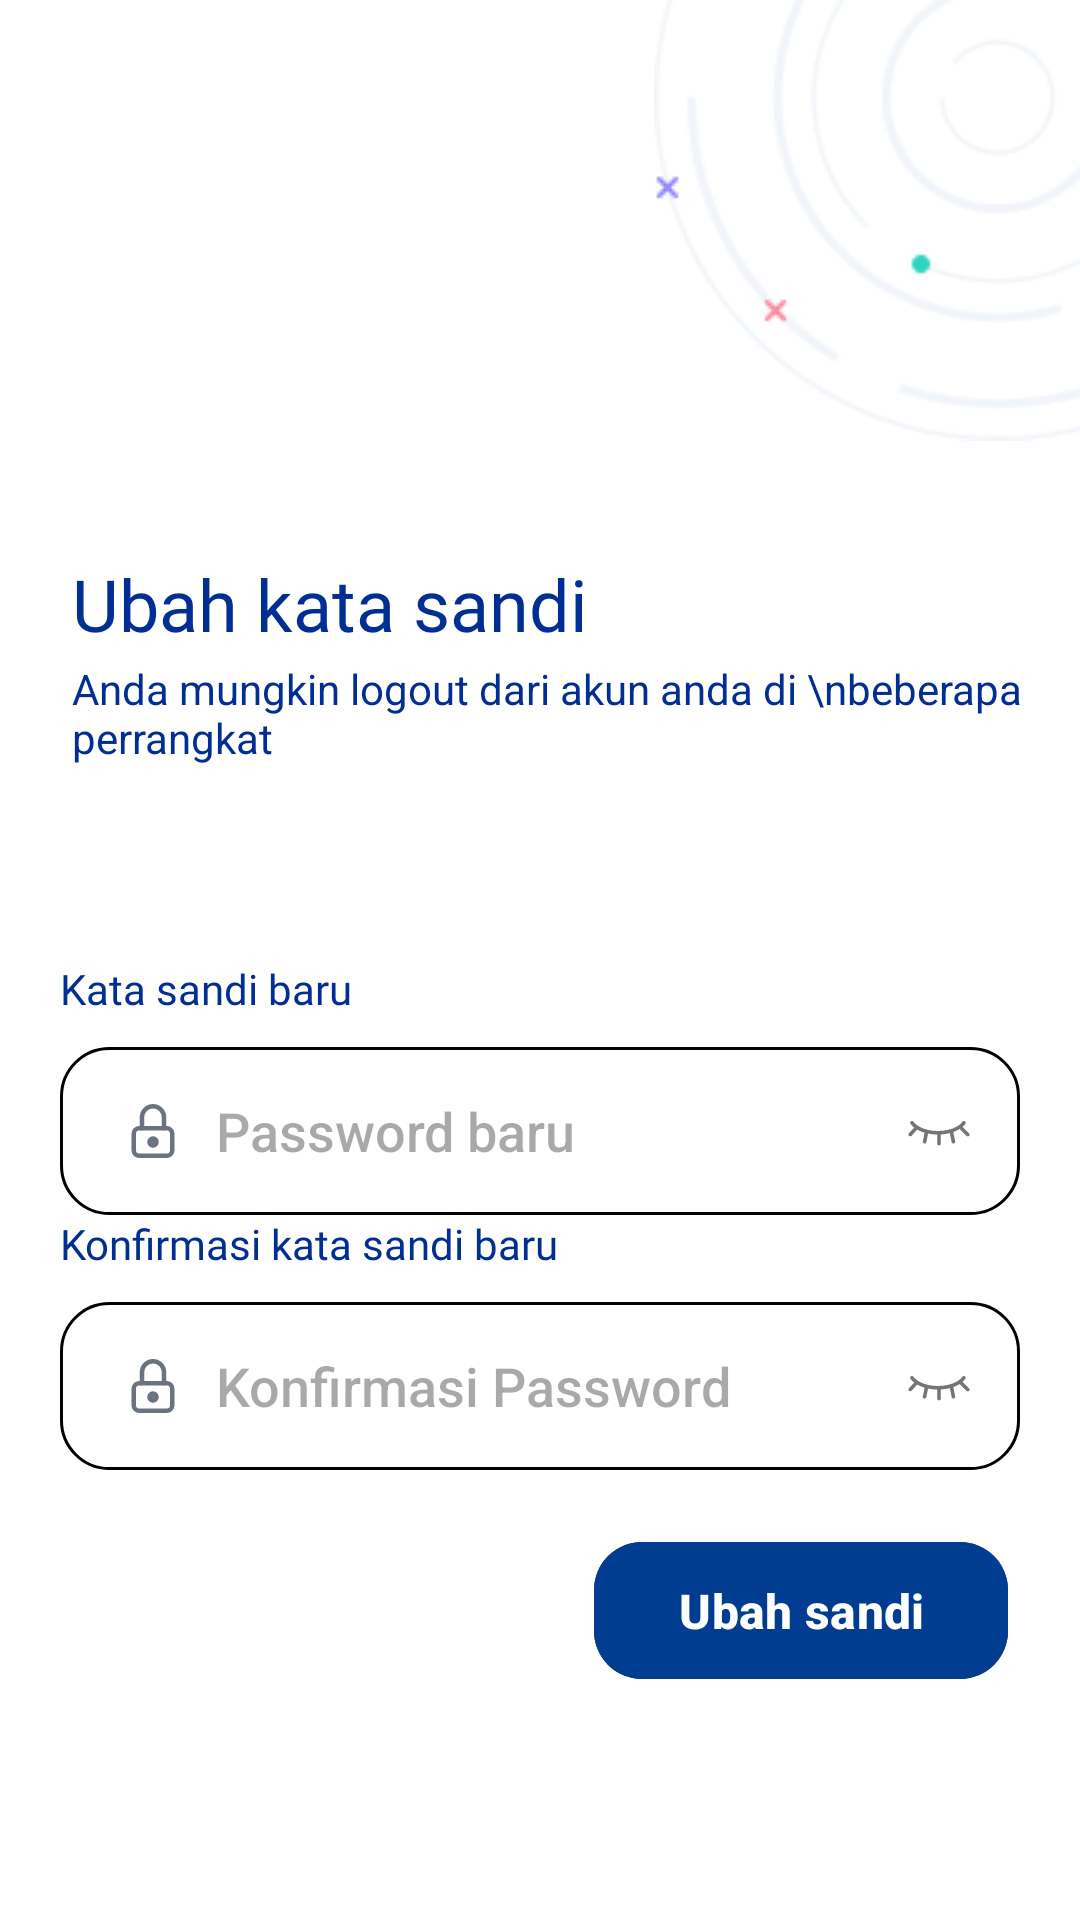

Locate icon controls on the screen. Image size 1080×1920, boxes as (x1, y1, x2, y2).
Toggle Password: (908, 1121, 970, 1146), (908, 1376, 970, 1401)
